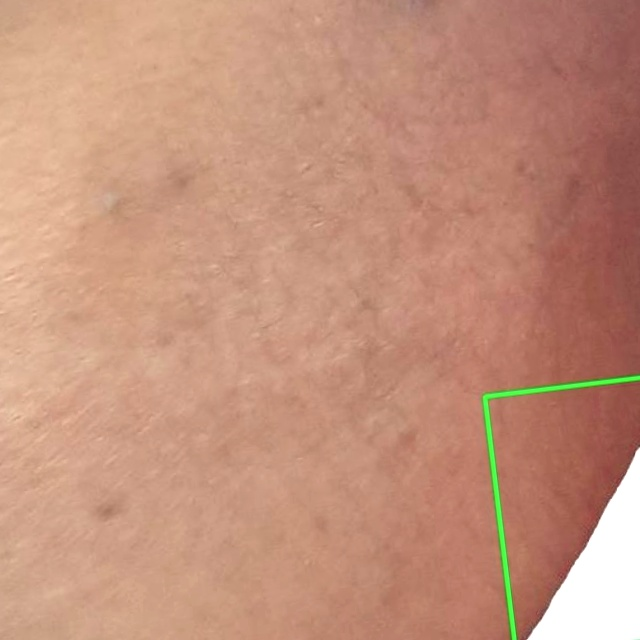Contact Dermatitis: (484, 377, 639, 639)
